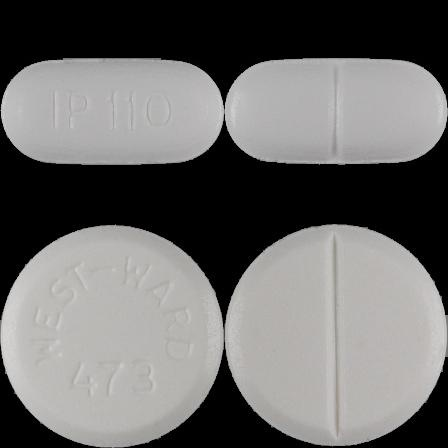68387-235: (0, 0, 224, 224)
